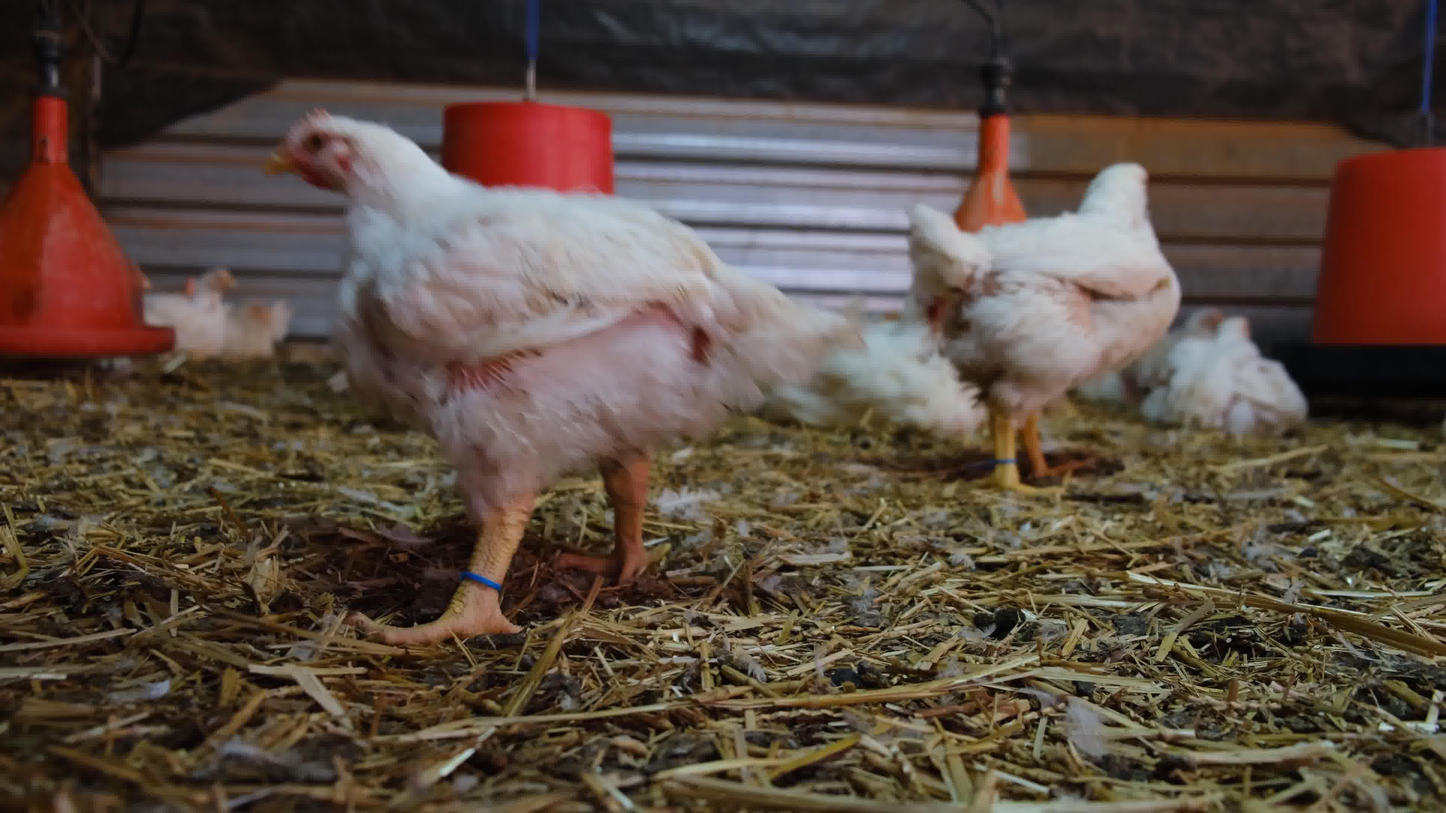AbNormal: (825, 286, 979, 455), (1182, 314, 1316, 459), (1164, 290, 1246, 427), (233, 290, 328, 365)
Normal: (254, 100, 802, 661), (855, 160, 1177, 510), (137, 254, 267, 369)
